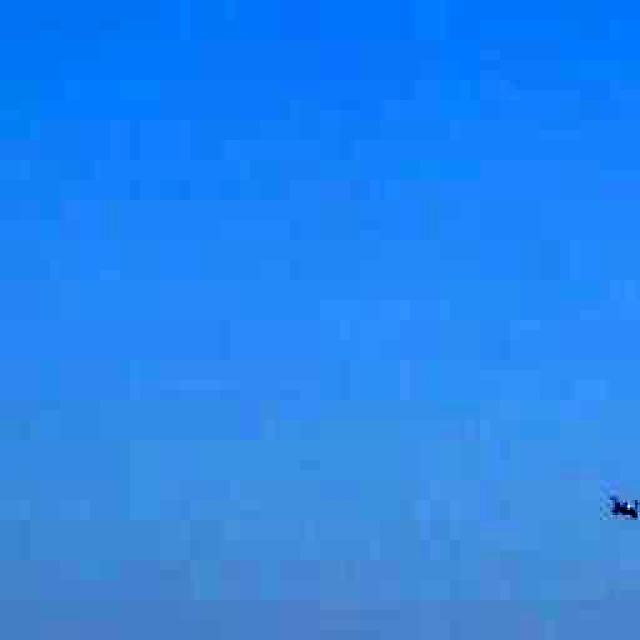bird: (594, 472, 640, 548)
